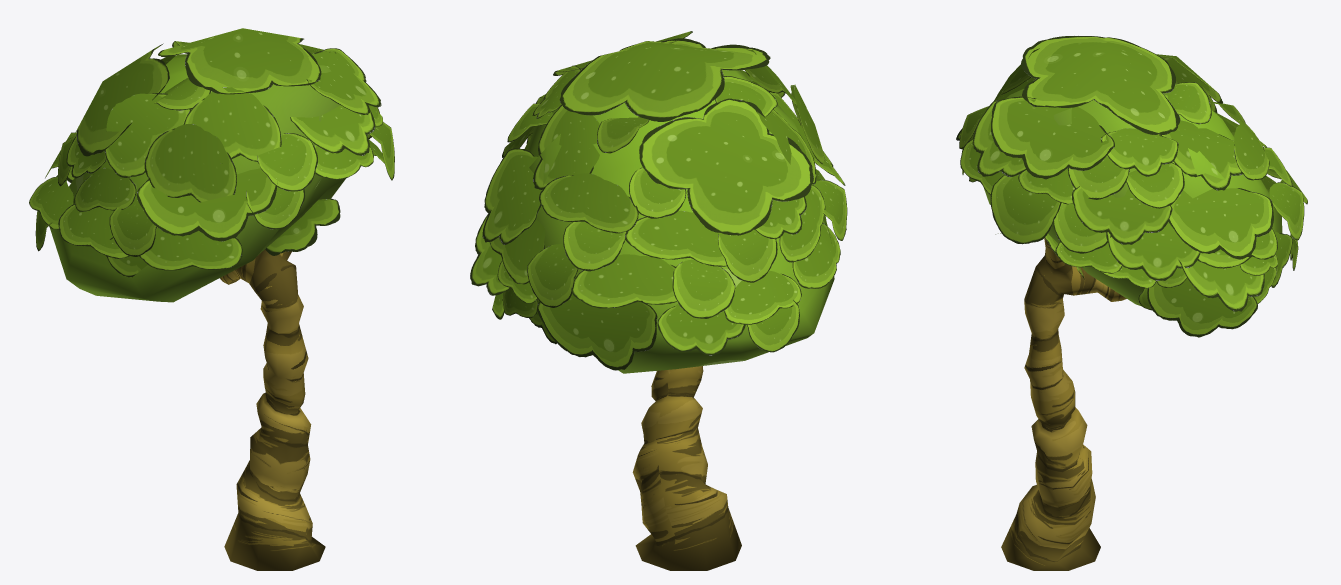
File: tree-tall.FBX
The picture shows the model from 3 angles, left to right: view 1: azimuth 30°, elevation 25°; view 2: azimuth 150°, elevation 25°; view 3: azimuth 270°, elevation 25°; orthographic projection. The views are drawn at different scales.
Parts seen in each view (by area): view 1: Tree Trunk, Leaf Base, Leaf050, Leaf048, Leaf30, Leaf049, Leaf29, Leaf42, Leaf35, Leaf31, Leaf19, Leaf09 (+11 smaller); view 2: Leaf42, Tree Trunk, Leaf050, Leaf Base, Leaf047, Leaf28, Leaf053, Leaf045, Leaf20, Leaf32, Leaf00, Leaf36 (+22 smaller); view 3: Tree Trunk, Leaf050, Leaf19, Leaf045, Leaf Base, Leaf22, Leaf23, Leaf12, Leaf18, Leaf32, Leaf052, Leaf27 (+15 smaller).
Boxes of the visible parts, x1,y1,x2,y2 form: Tree Trunk: [220, 249, 325, 570]; Leaf Base: [49, 54, 345, 302]; Leaf050: [158, 28, 321, 94]; Leaf048: [144, 123, 236, 202]; Leaf30: [136, 168, 277, 241]; Leaf049: [183, 87, 281, 163]; Leaf29: [104, 93, 190, 177]; Leaf42: [70, 43, 169, 156]; Leaf35: [139, 227, 242, 270]; Leaf31: [290, 105, 375, 155]; Leaf19: [306, 48, 381, 114]; Leaf09: [257, 133, 317, 191]; Leaf42: [639, 98, 813, 235]; Tree Trunk: [632, 366, 741, 570]; Leaf050: [559, 38, 770, 121]; Leaf Base: [527, 70, 834, 373]; Leaf047: [537, 293, 657, 370]; Leaf28: [571, 254, 676, 308]; Leaf053: [539, 173, 638, 233]; Leaf045: [482, 148, 541, 244]; Leaf20: [625, 210, 726, 266]; Leaf32: [533, 105, 599, 189]; Leaf00: [672, 259, 735, 318]; Leaf36: [657, 303, 745, 355]; Tree Trunk: [1001, 238, 1126, 570]; Leaf050: [1021, 36, 1180, 134]; Leaf19: [991, 96, 1114, 179]; Leaf045: [1168, 188, 1273, 259]; Leaf Base: [984, 83, 1282, 306]; Leaf22: [1147, 278, 1257, 337]; Leaf23: [1072, 186, 1172, 244]; Leaf12: [990, 174, 1061, 244]; Leaf18: [1106, 224, 1200, 280]; Leaf32: [1160, 120, 1242, 190]; Leaf052: [1101, 128, 1178, 176]; Leaf27: [1179, 260, 1264, 311].
Size of the model in its own units: 3.53 by 4.9 by 3.75.
